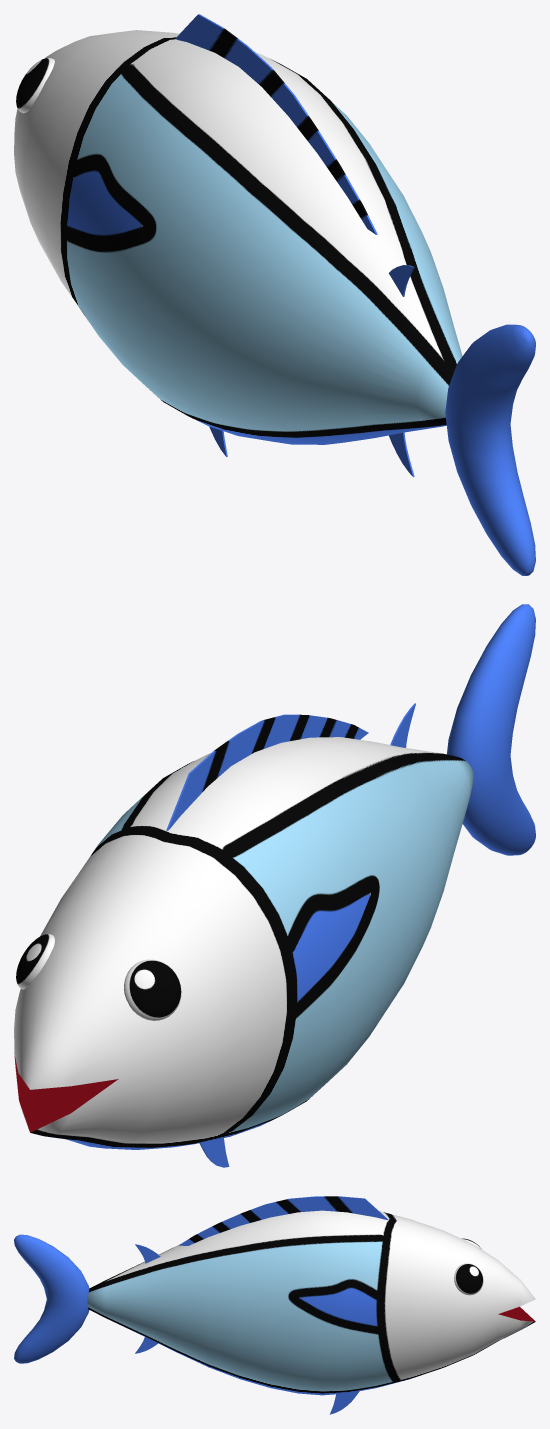
File: maguro.fbx
3 renders of one model, top to bottom at view 1: azimuth 30°, elevation 25°; view 2: azimuth 150°, elevation 25°; view 3: azimuth 270°, elevation 25°, orthographic. The views are drawn at different scales.
Parts seen in each view (by area): view 1: Sphere, Sphere.001, Plane, Sphere.002, Plane.001; view 2: Sphere, Sphere.001, Plane, Sphere.002; view 3: Sphere, Sphere.001, Plane, Sphere.002, Plane.001, Plane.002.
Boxes of the visible parts, bbox=[...] form: Sphere: bbox=[14, 30, 462, 444]; Sphere.001: bbox=[445, 324, 535, 575]; Plane: bbox=[175, 14, 377, 234]; Sphere.002: bbox=[16, 58, 54, 113]; Plane.001: bbox=[388, 265, 414, 476]; Sphere: bbox=[14, 737, 473, 1149]; Sphere.001: bbox=[447, 604, 535, 855]; Plane: bbox=[166, 714, 368, 830]; Sphere.002: bbox=[16, 934, 181, 1020]; Sphere: bbox=[87, 1210, 535, 1395]; Sphere.001: bbox=[14, 1234, 89, 1363]; Plane: bbox=[179, 1196, 388, 1245]; Sphere.002: bbox=[454, 1238, 483, 1295]; Plane.001: bbox=[135, 1244, 160, 1353]; Plane.002: bbox=[330, 1391, 359, 1414].
Bounding box in the file's own units: 1.47 × 2.43 × 5.24.
Materials: 1 (1 with a texture image).
